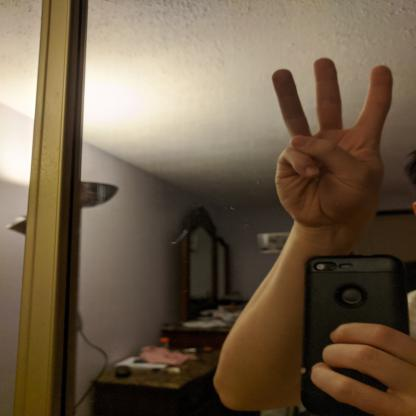W: (269, 56, 398, 233)
